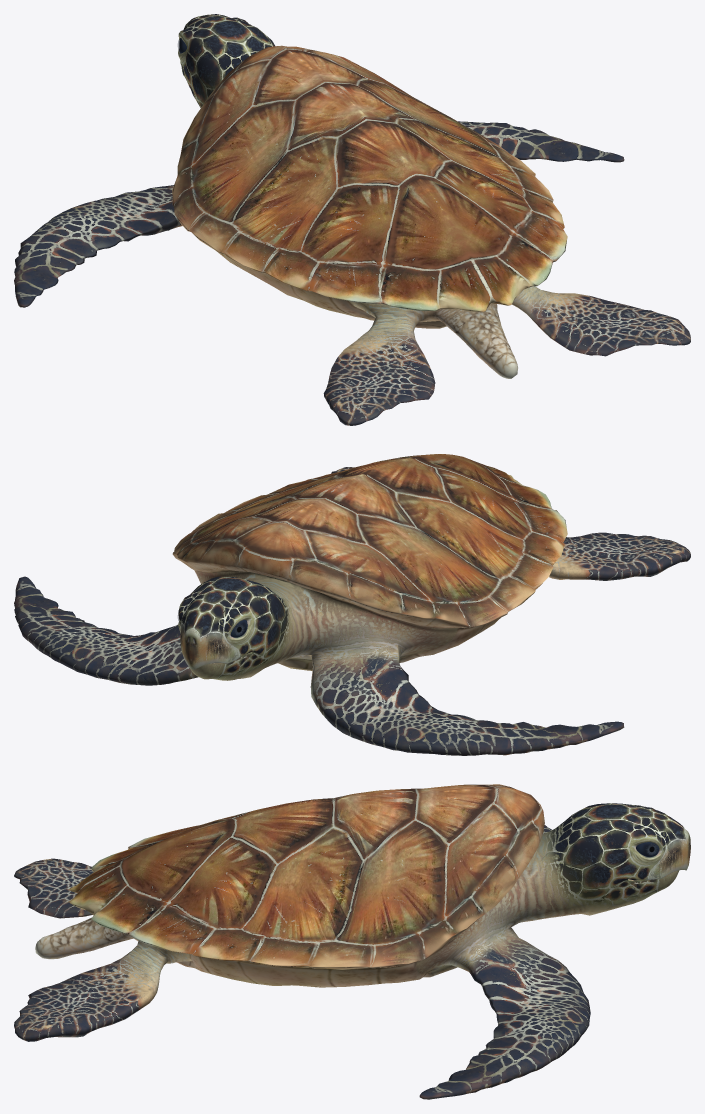
Rendered from sea_turtle.glb.
3 renders of one model, top to bottom at view 1: azimuth 30°, elevation 25°; view 2: azimuth 150°, elevation 25°; view 3: azimuth 270°, elevation 25°, orthographic.
Parts seen in each view (by area): view 1: sea_turtle; view 2: sea_turtle; view 3: sea_turtle.
Boxes of the visible parts, <box> form: sea_turtle: <box>14,14,690,425</box>; sea_turtle: <box>14,454,690,755</box>; sea_turtle: <box>14,784,690,1099</box>.
Size of the model in its own units: 4.66 by 1.24 by 4.47.
2 materials, 2 textured.
